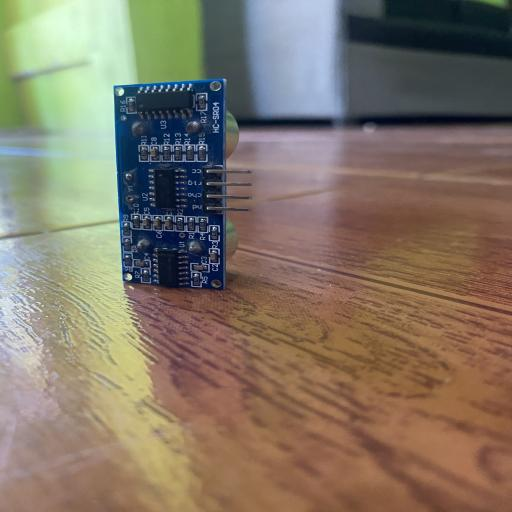Ultrasonic Sensor: (112, 77, 253, 291)
